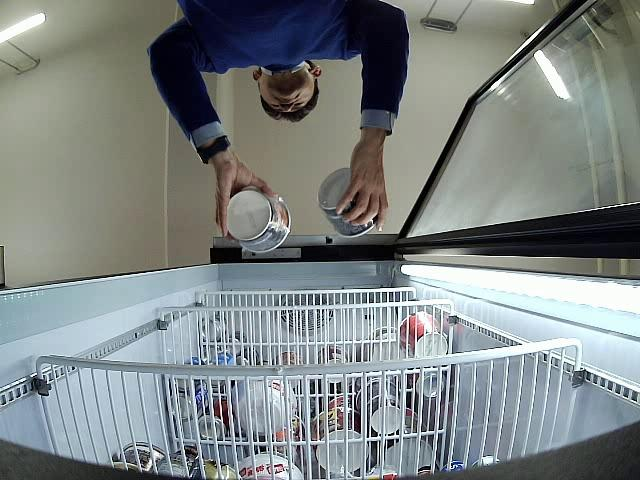00_hand: (216, 148, 276, 241), (336, 133, 389, 232)
07_buldak_L: (317, 168, 377, 238), (227, 188, 290, 252)
